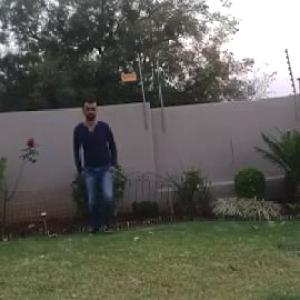follow: (68, 94, 119, 236)
